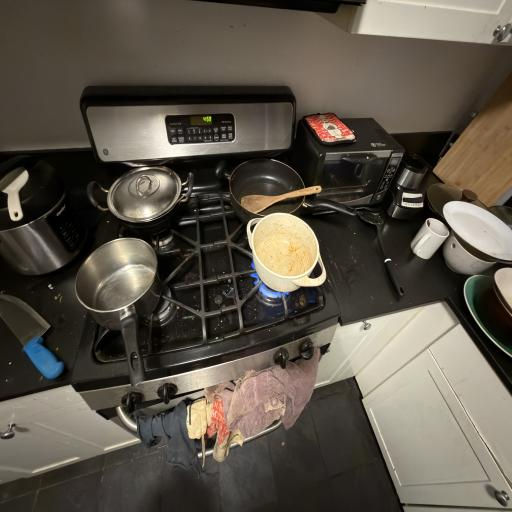Flame: (236, 253, 304, 319)
Pan: (77, 240, 188, 392), (207, 154, 316, 222), (92, 166, 196, 224), (242, 218, 327, 286)
Stove: (59, 166, 342, 372)
knife: (0, 282, 72, 399)
